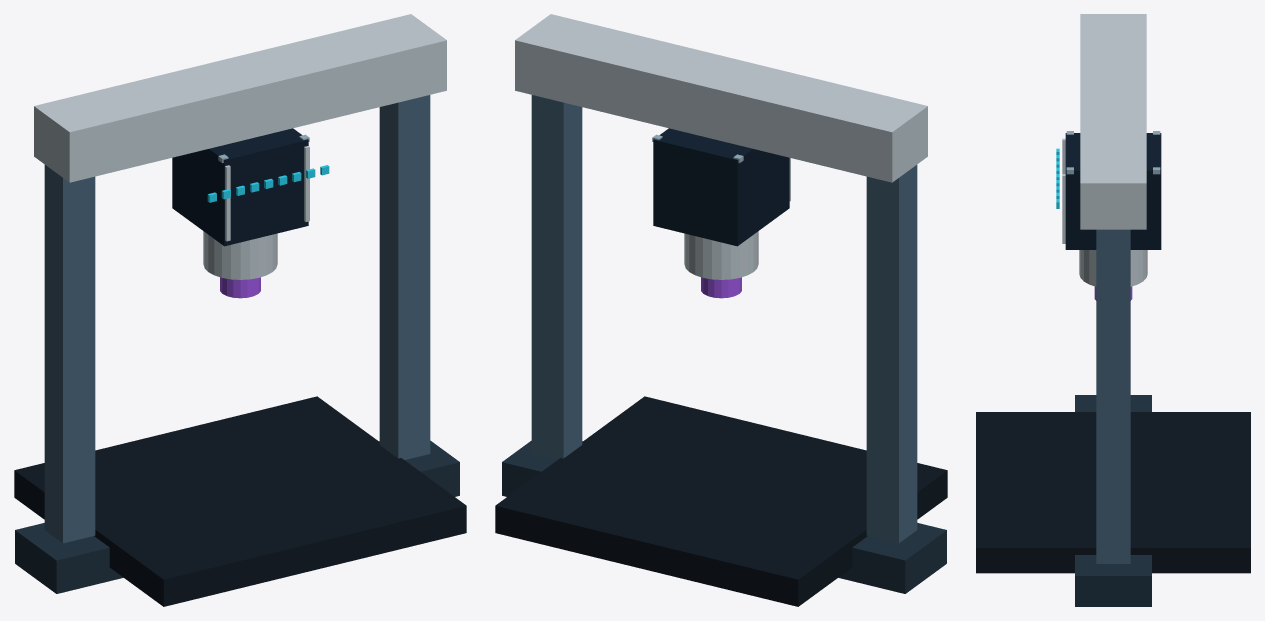
The model's file is 48_L74_CriticalDimensionInspectionScanner.fbx.
The picture shows the model from 3 angles, left to right: view 1: azimuth 30°, elevation 25°; view 2: azimuth 150°, elevation 25°; view 3: azimuth 270°, elevation 25°; orthographic projection. The views are drawn at different scales.
Parts seen in each view (by area): view 1: CriticalDimensionInspectionScanner, CriticalDimensionInspectionScanner_Part_0005, CriticalDimensionInspectionScanner_Part_0012, CriticalDimensionInspectionScanner_Part_0013; view 2: CriticalDimensionInspectionScanner, CriticalDimensionInspectionScanner_Part_0005, CriticalDimensionInspectionScanner_Part_0012, CriticalDimensionInspectionScanner_Part_0013; view 3: CriticalDimensionInspectionScanner, CriticalDimensionInspectionScanner_Part_0005, CriticalDimensionInspectionScanner_Part_0012.
Part boxes in pixels (x1,y1,x2,y2): CriticalDimensionInspectionScanner: [14, 14, 466, 606]; CriticalDimensionInspectionScanner_Part_0005: [172, 128, 308, 246]; CriticalDimensionInspectionScanner_Part_0012: [203, 231, 277, 279]; CriticalDimensionInspectionScanner_Part_0013: [220, 277, 260, 298]; CriticalDimensionInspectionScanner: [495, 14, 947, 606]; CriticalDimensionInspectionScanner_Part_0005: [653, 128, 789, 246]; CriticalDimensionInspectionScanner_Part_0012: [684, 231, 758, 279]; CriticalDimensionInspectionScanner_Part_0013: [701, 277, 741, 298]; CriticalDimensionInspectionScanner: [976, 14, 1250, 606]; CriticalDimensionInspectionScanner_Part_0005: [1065, 133, 1161, 249]; CriticalDimensionInspectionScanner_Part_0012: [1079, 250, 1147, 286].
Bounding box in the file's own units: 201 × 217 × 129.
